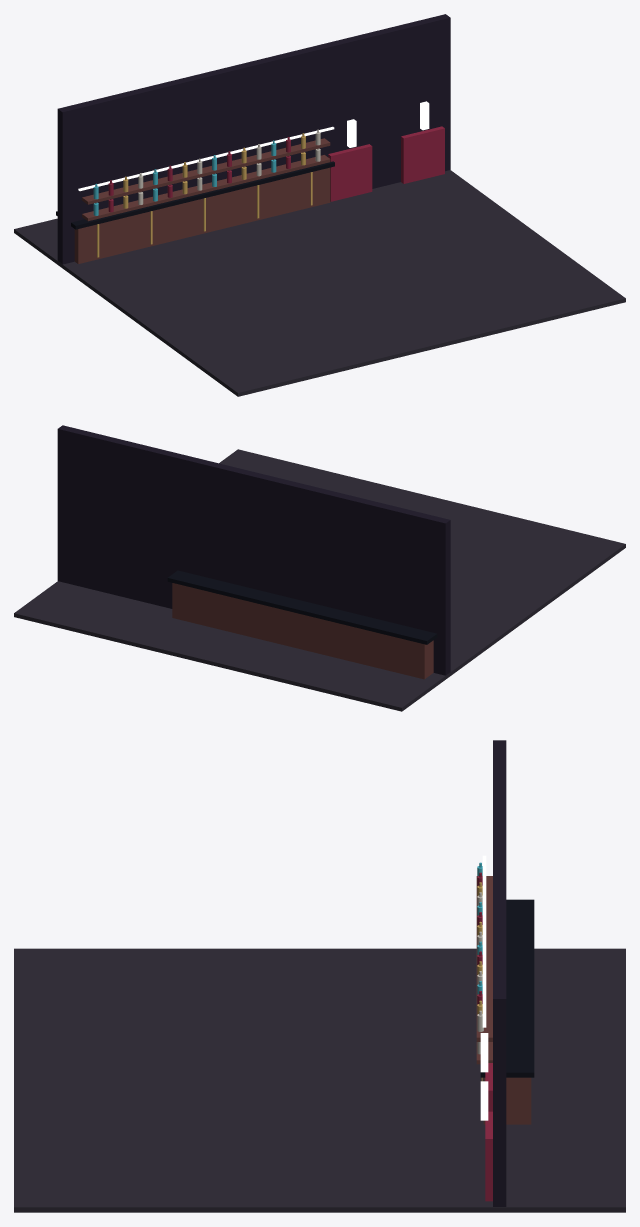
File: room.glb
3 renders of one model, top to bottom at view 1: azimuth 30°, elevation 25°; view 2: azimuth 150°, elevation 25°; view 3: azimuth 270°, elevation 25°, orthographic. The views are drawn at different scales.
Parts seen in each view (by area): view 1: QuietFloorGeometry, neon-accentsGeometry, long-counterGeometry, bottle-shelvesGeometry, booth-backingGeometry, warm-lightGeometry; view 2: neon-accentsGeometry, QuietFloorGeometry, long-counterGeometry; view 3: QuietFloorGeometry, neon-accentsGeometry, long-counterGeometry, bottle-shelvesGeometry, booth-backingGeometry, warm-lightGeometry.
Boxes of the visible parts, x1=… form: QuietFloorGeometry: x1=14, y1=170, x2=625, y2=396; neon-accentsGeometry: x1=57, y1=14, x2=450, y2=264; long-counterGeometry: x1=56, y1=161, x2=334, y2=263; bottle-shelvesGeometry: x1=82, y1=129, x2=330, y2=221; booth-backingGeometry: x1=328, y1=126, x2=444, y2=201; warm-lightGeometry: x1=347, y1=101, x2=429, y2=147; neon-accentsGeometry: x1=57, y1=425, x2=450, y2=675; QuietFloorGeometry: x1=14, y1=449, x2=625, y2=711; long-counterGeometry: x1=167, y1=570, x2=437, y2=679; QuietFloorGeometry: x1=14, y1=948, x2=625, y2=1212; neon-accentsGeometry: x1=482, y1=740, x2=506, y2=1206; long-counterGeometry: x1=480, y1=899, x2=534, y2=1124; bottle-shelvesGeometry: x1=476, y1=862, x2=492, y2=1064; booth-backingGeometry: x1=485, y1=1063, x2=492, y2=1201; warm-lightGeometry: x1=480, y1=1033, x2=488, y2=1120.
Size of the model in its own units: 16 by 6.16 by 16.
